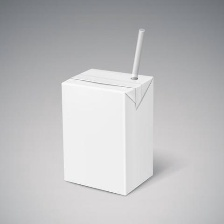carton: (59, 65, 157, 197)
drinking_straw: (128, 22, 153, 82)
